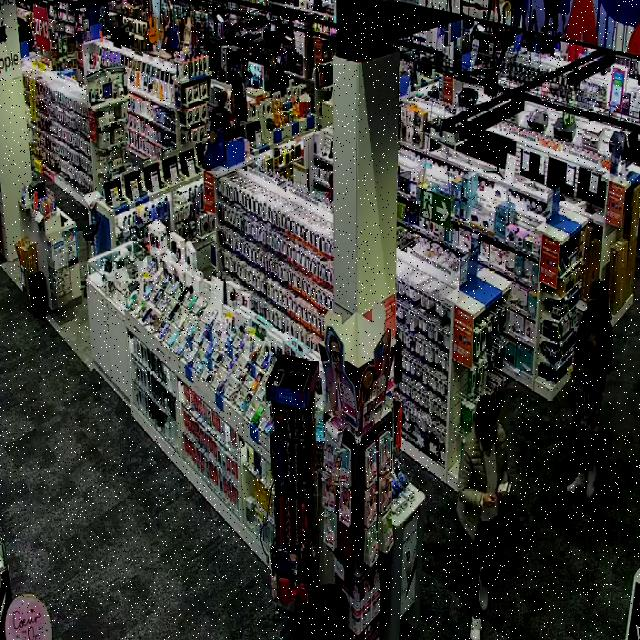article: (498, 482, 510, 492)
bags: (573, 347, 592, 379)
hands: (587, 330, 598, 347), (483, 494, 495, 506), (496, 489, 507, 499)
person: (456, 396, 510, 639), (566, 279, 612, 497)
